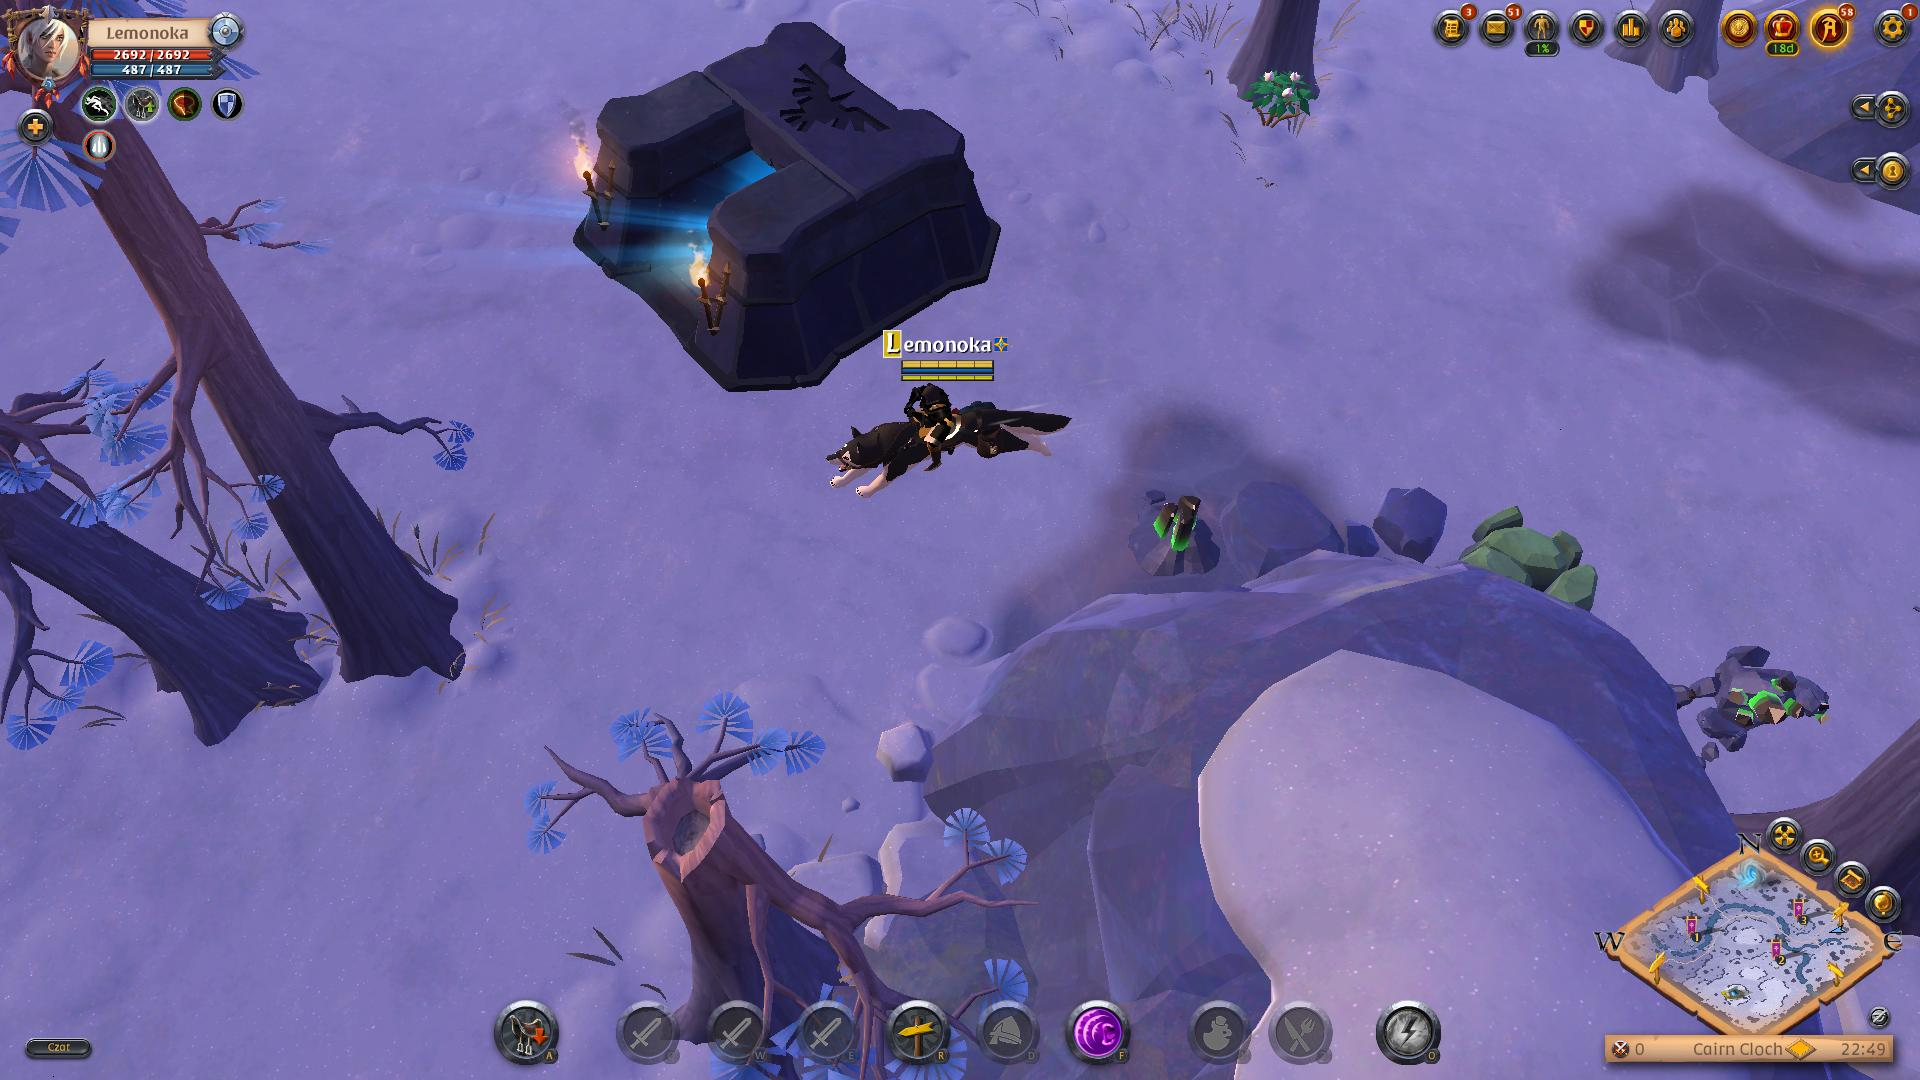fiber tier 3: (1242, 50, 1323, 136)
ore tier 3: (1112, 479, 1230, 605)
rock tier 3: (1482, 496, 1598, 632)
